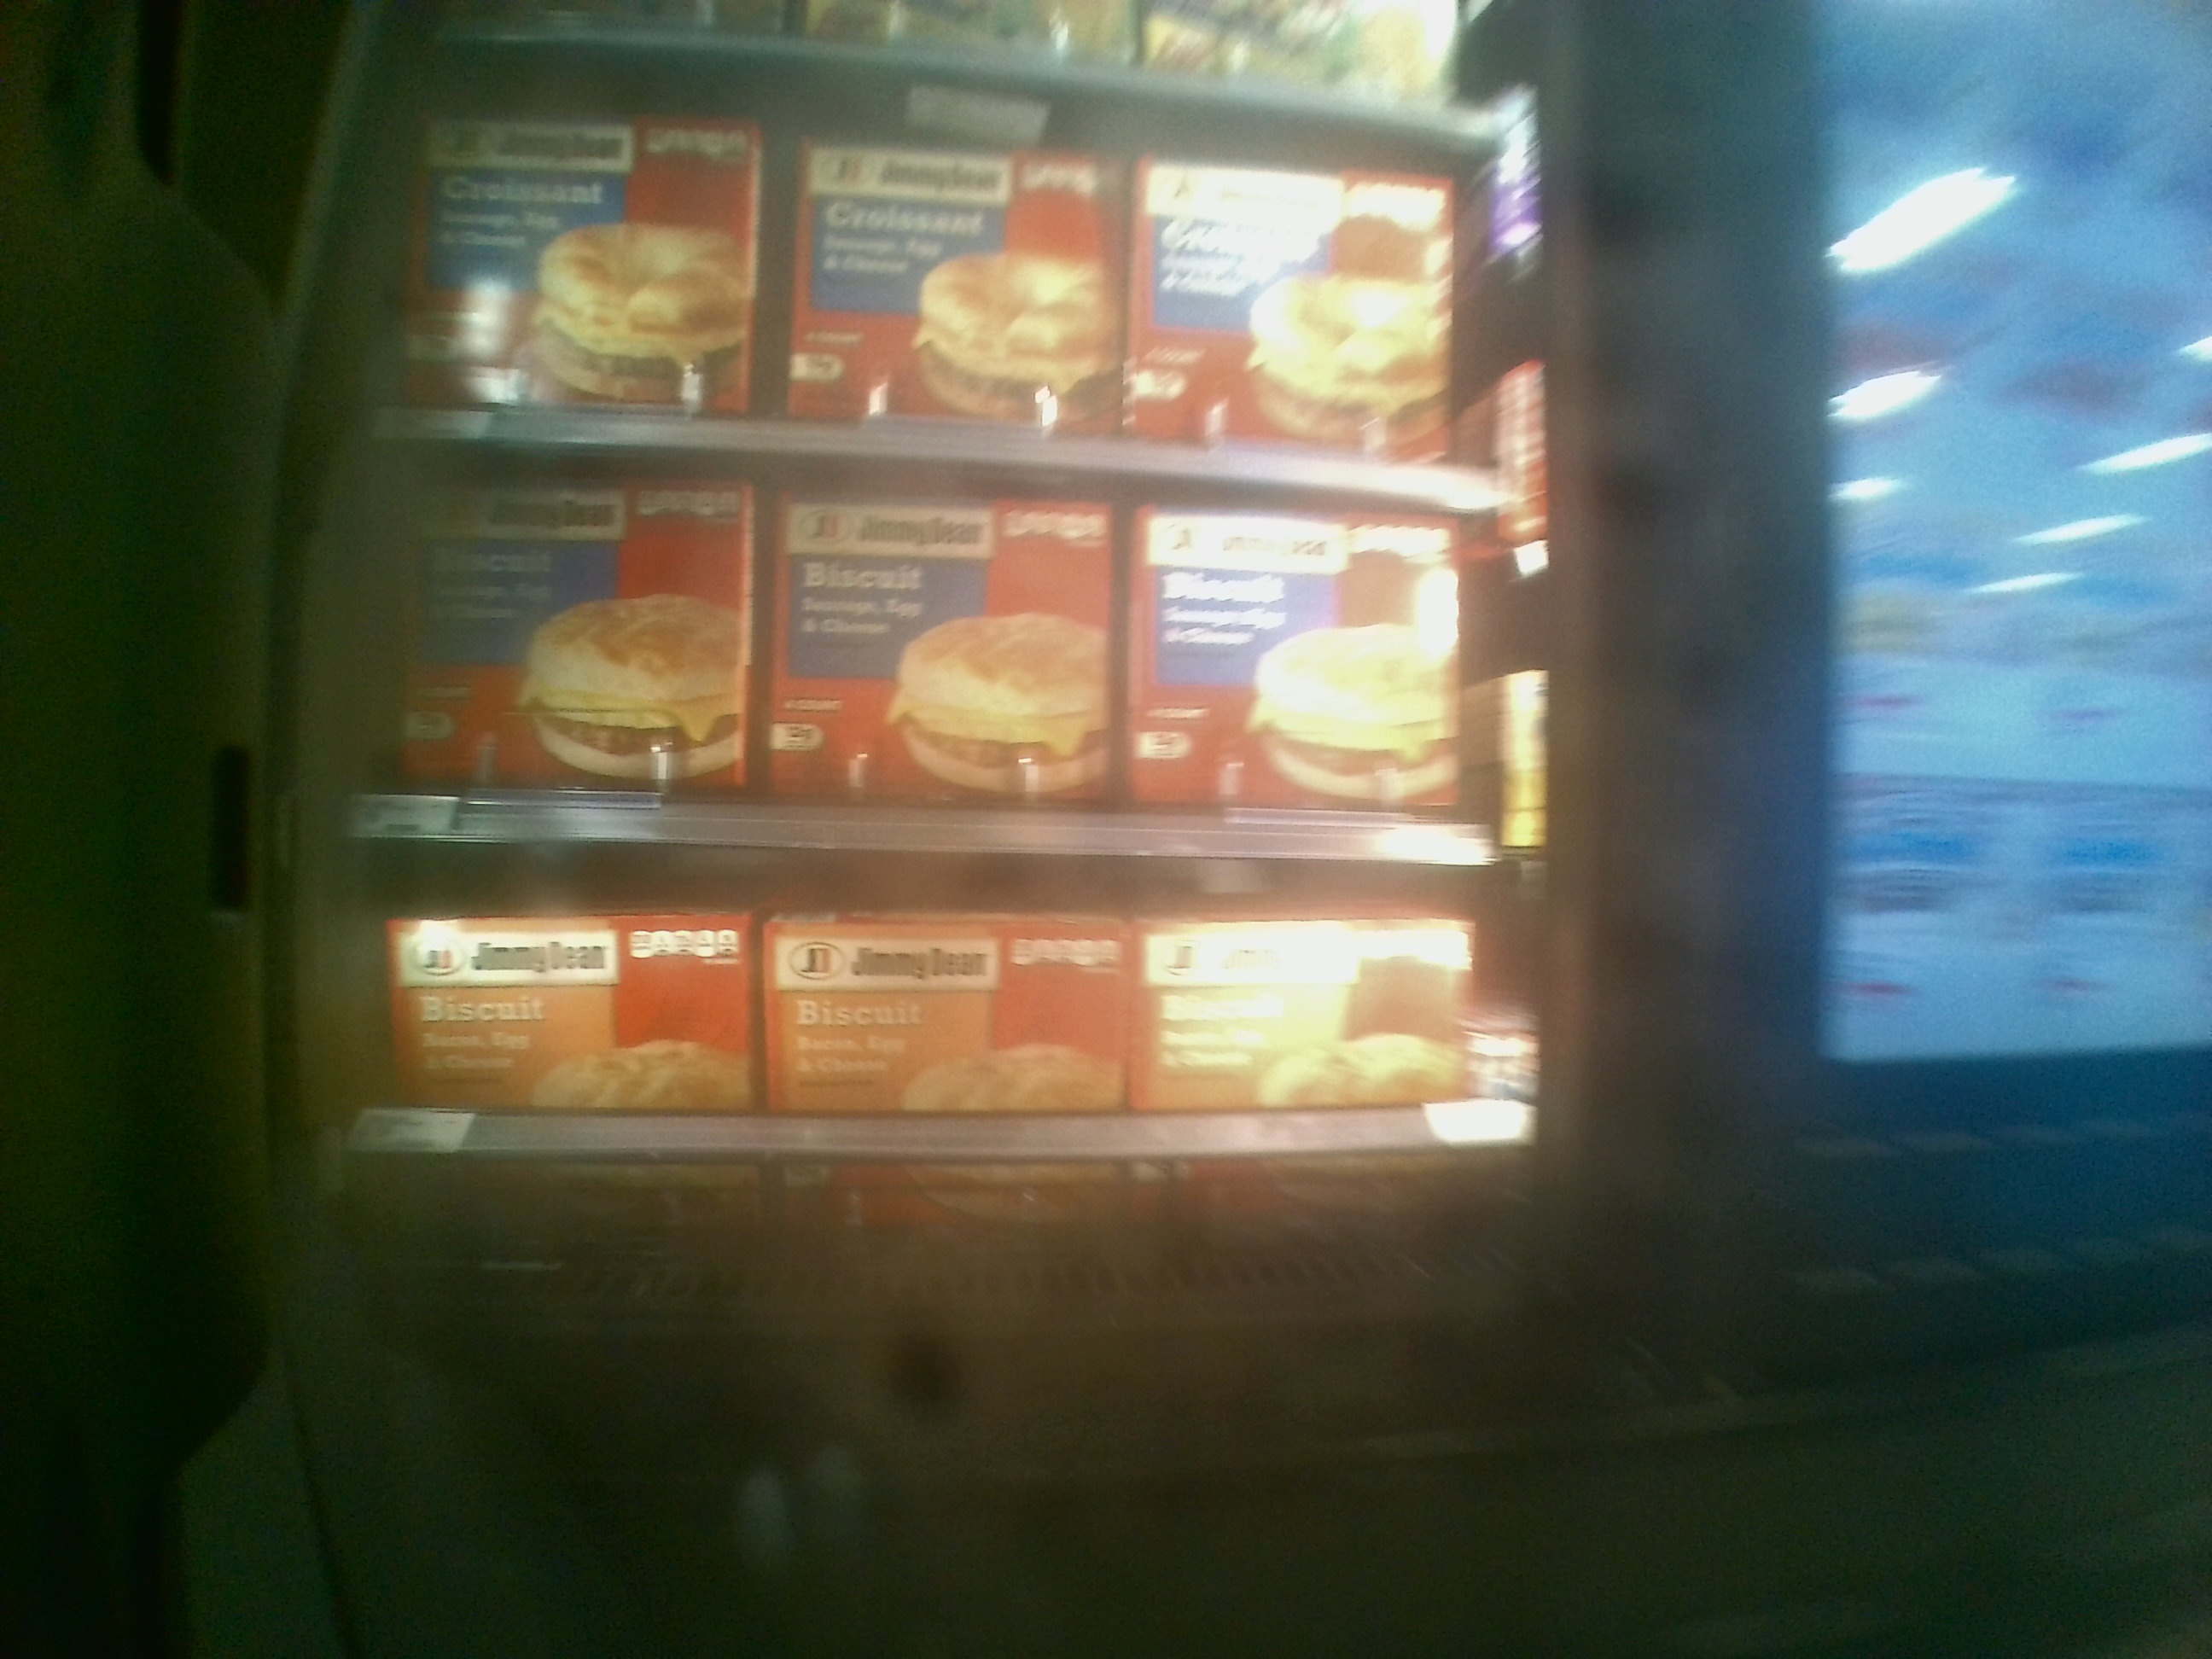shelf: (334, 836, 1566, 1293), (334, 427, 1554, 843)
